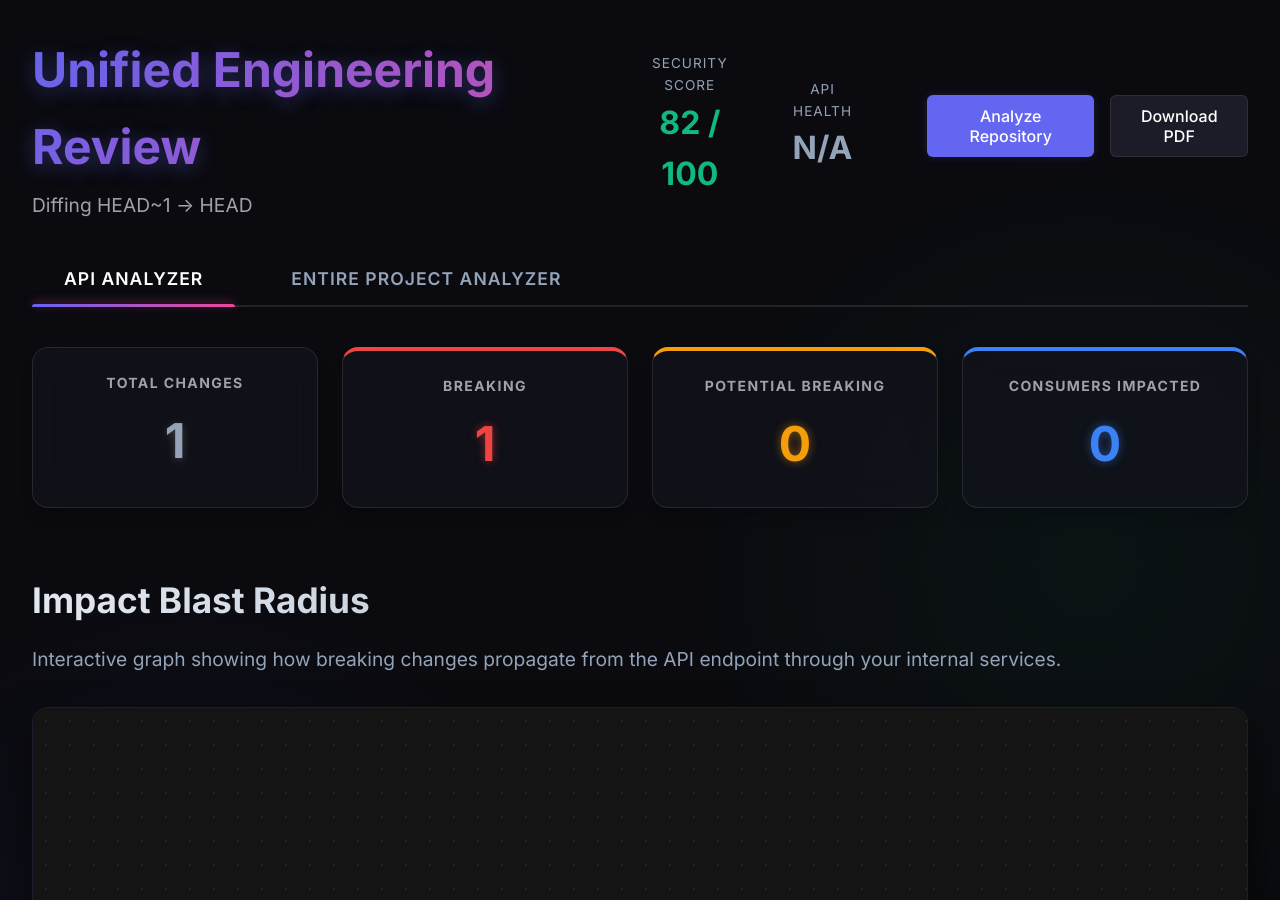
AnalysisReportView › 4. Severity/category filtering
The width and height of the screenshot is (1280, 900).
Click the button "ENTIRE PROJECT ANALYZER".
click(426, 279)  # box x1=259 y1=252 x2=593 y2=305
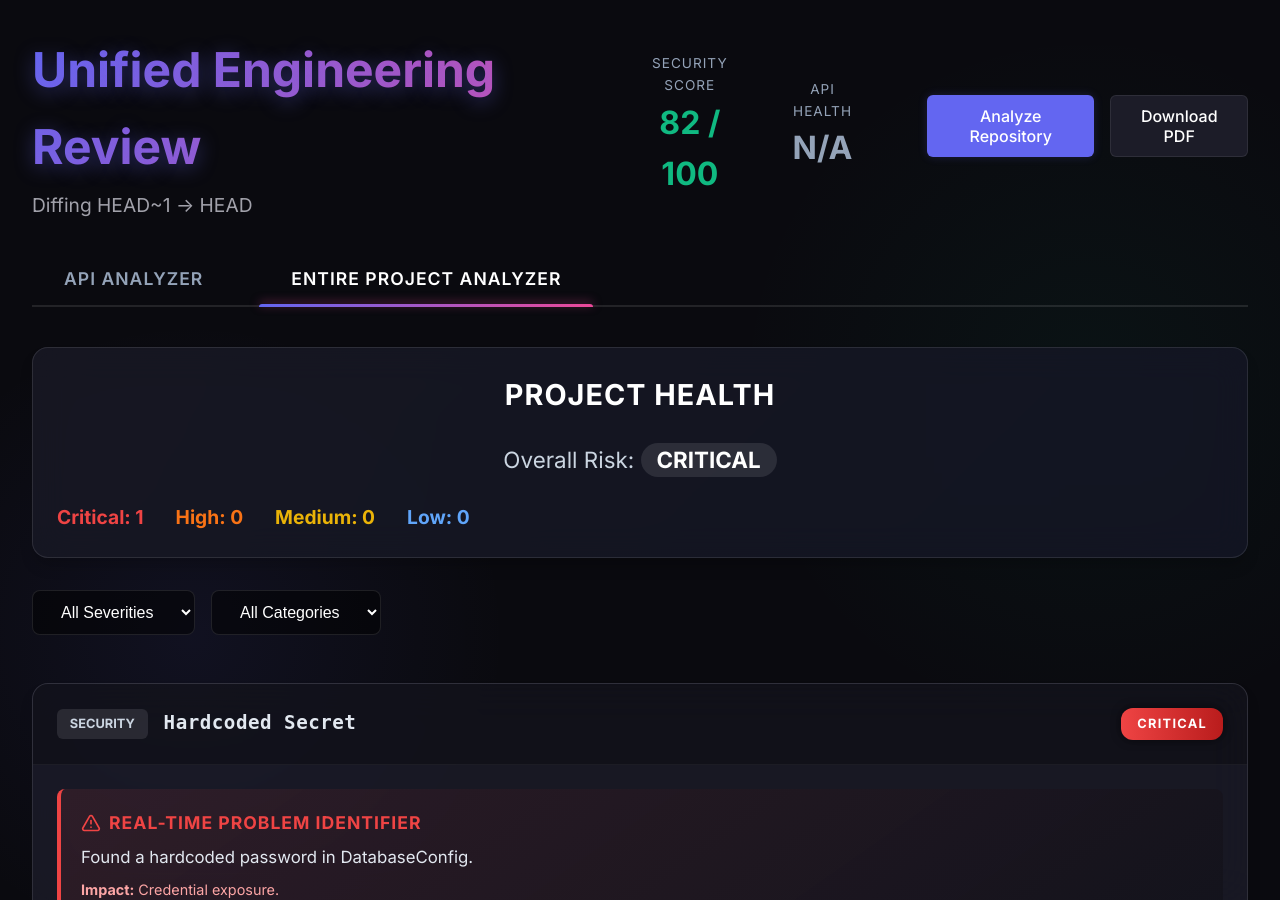
Result: the text "Hardcoded Secret" is shown at x1=164 y1=708 x2=356 y2=739
Select "Low" in the 1st dropdown showing "All Severities" at (114, 612), box x1=32 y1=590 x2=195 y2=635
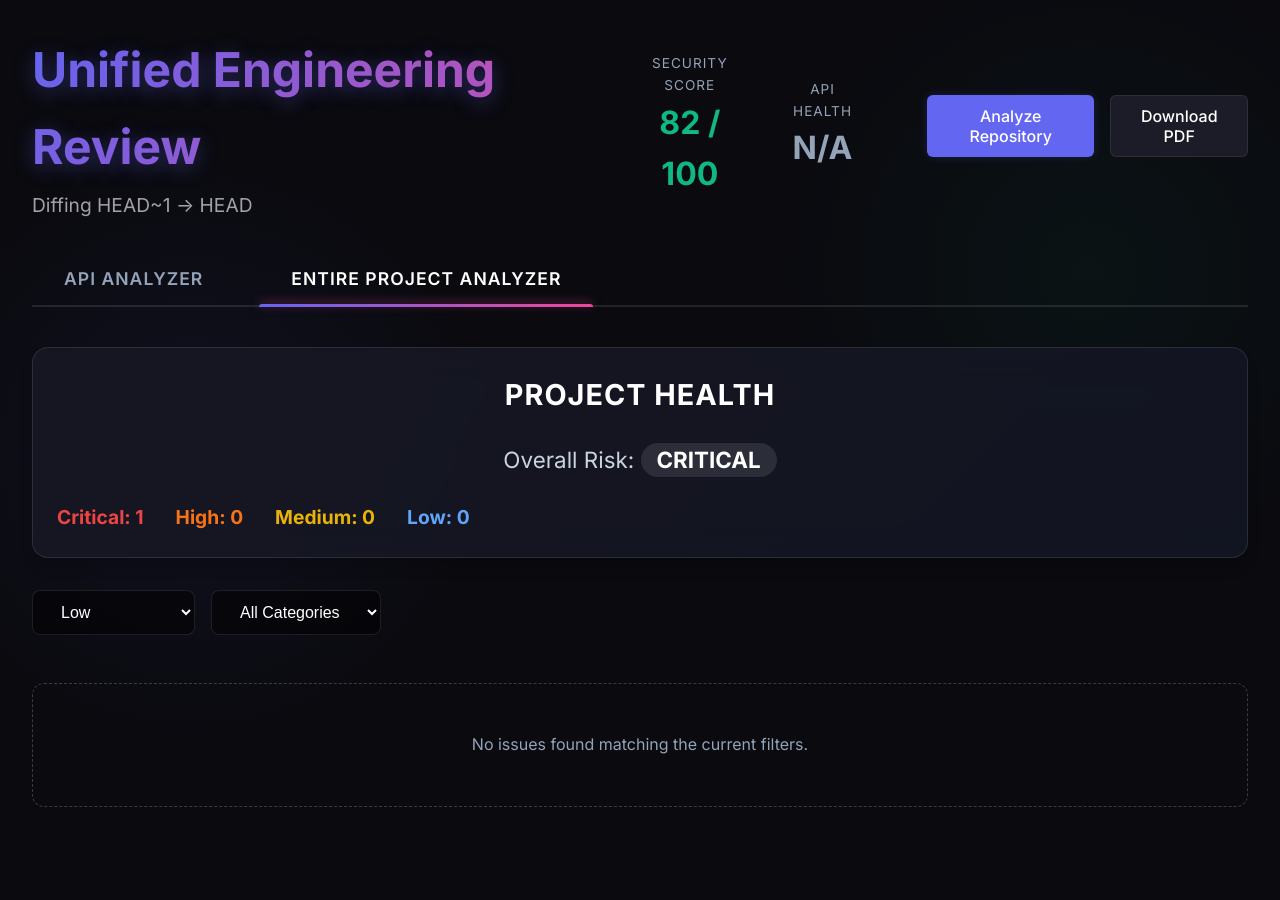
Result: the text "Hardcoded Secret" is gone
Result: the text "No issues found matching the current filters." is shown at x1=32 y1=683 x2=1248 y2=806
